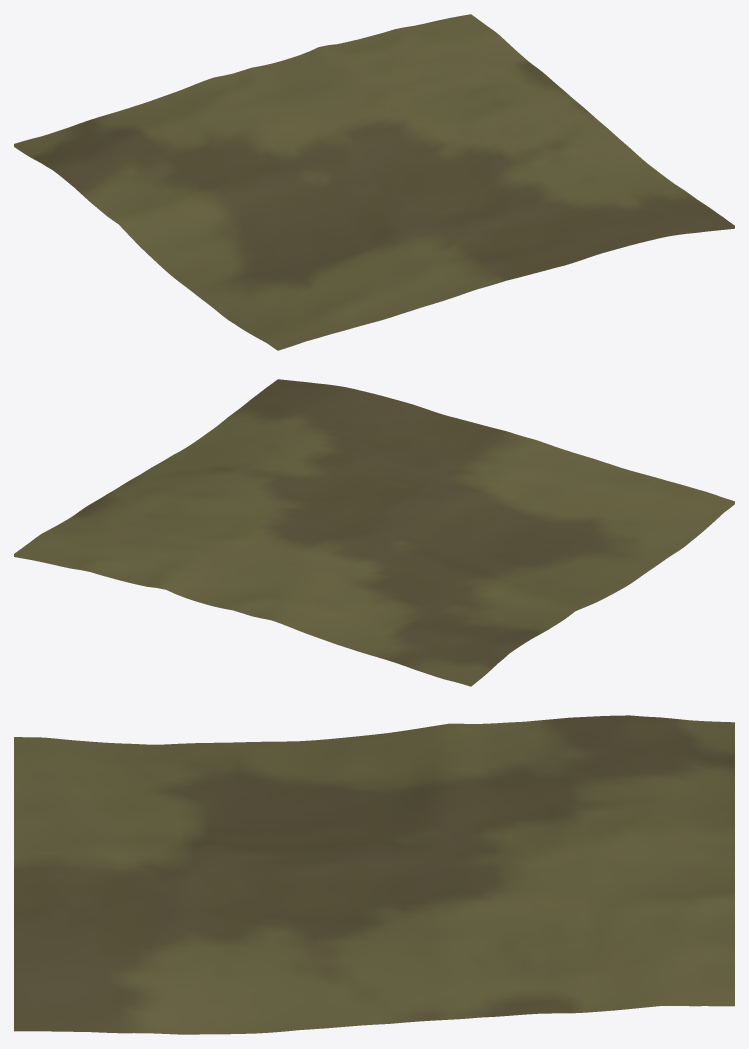
File: land_m_05_02.glb
3 views of the same model, one above another, from view 1: azimuth 30°, elevation 25°; view 2: azimuth 150°, elevation 25°; view 3: azimuth 270°, elevation 25° (orthographic). The views are drawn at different scales.
Visible parts, largest first — view 1: land_m_05_02; view 2: land_m_05_02; view 3: land_m_05_02.
Boxes of the visible parts, left/top/right/bottom form: land_m_05_02: left=14, top=14, right=734, bottom=350; land_m_05_02: left=14, top=379, right=734, bottom=686; land_m_05_02: left=14, top=715, right=734, bottom=1034.
Size of the model in its own units: 960 by 84.1 by 960.
